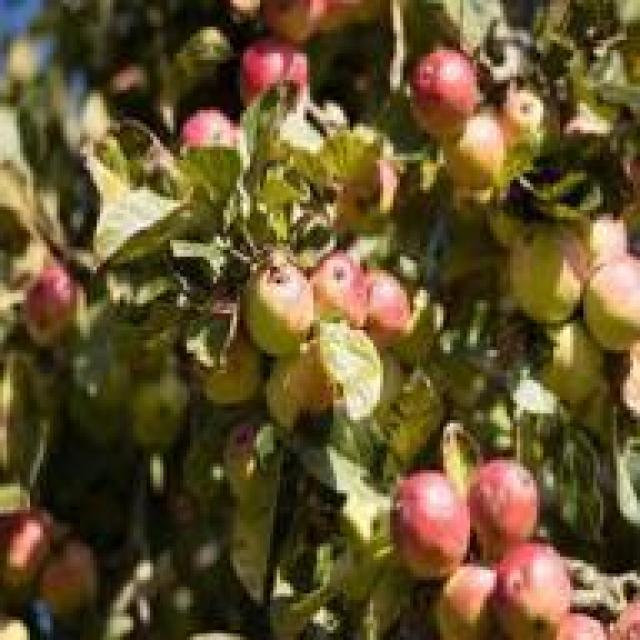apple: (386, 467, 476, 573), (507, 220, 590, 317), (460, 450, 537, 550), (487, 540, 570, 627), (237, 246, 310, 336), (410, 46, 477, 136), (440, 100, 507, 190), (177, 100, 243, 187), (310, 243, 367, 337), (240, 33, 307, 107), (363, 270, 420, 347)
